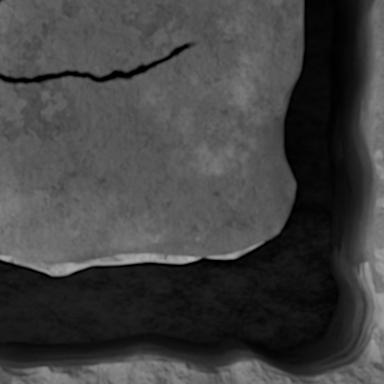broken_brick: (0, 0, 301, 263), (370, 0, 383, 293)
crack: (0, 0, 381, 383), (0, 40, 197, 84)
